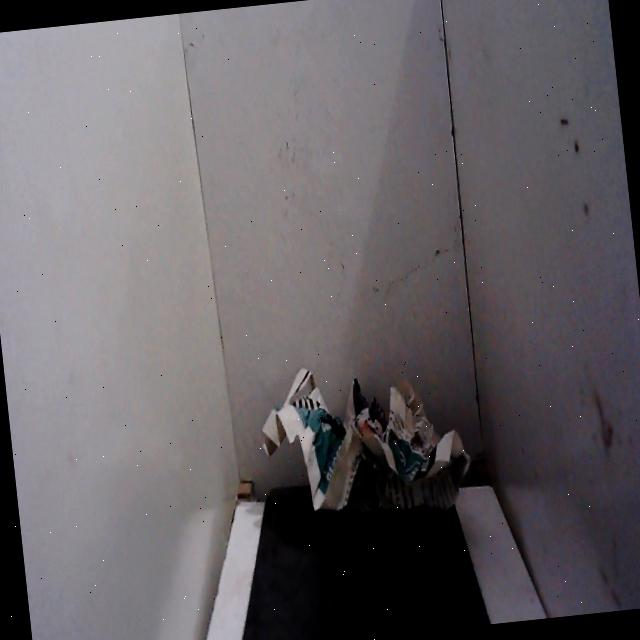papel: (248, 339, 482, 544)
